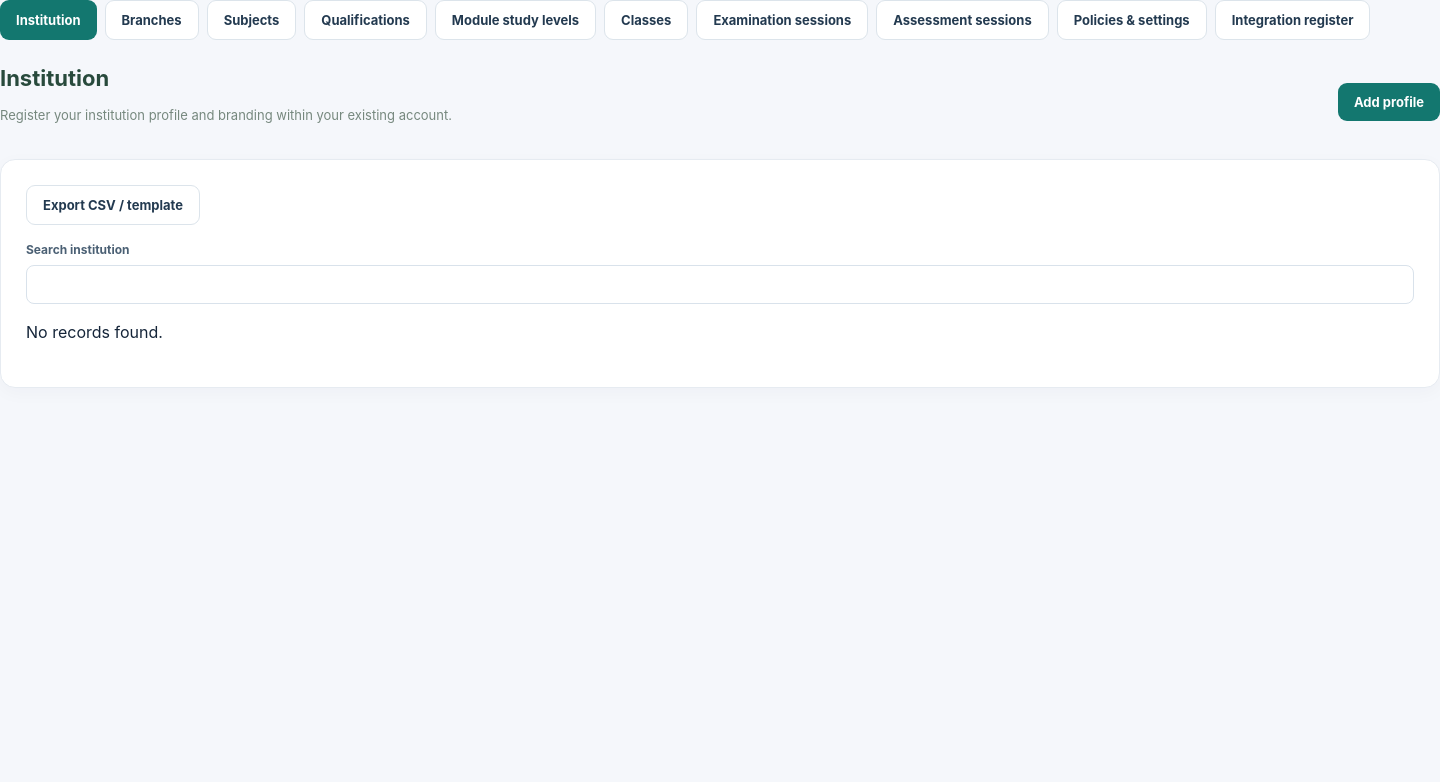
Scenario: Institution management workflows › saves a branch through the backend and refreshes the list
Click the button "Branches" at (152, 20), box [104,0,199,40]
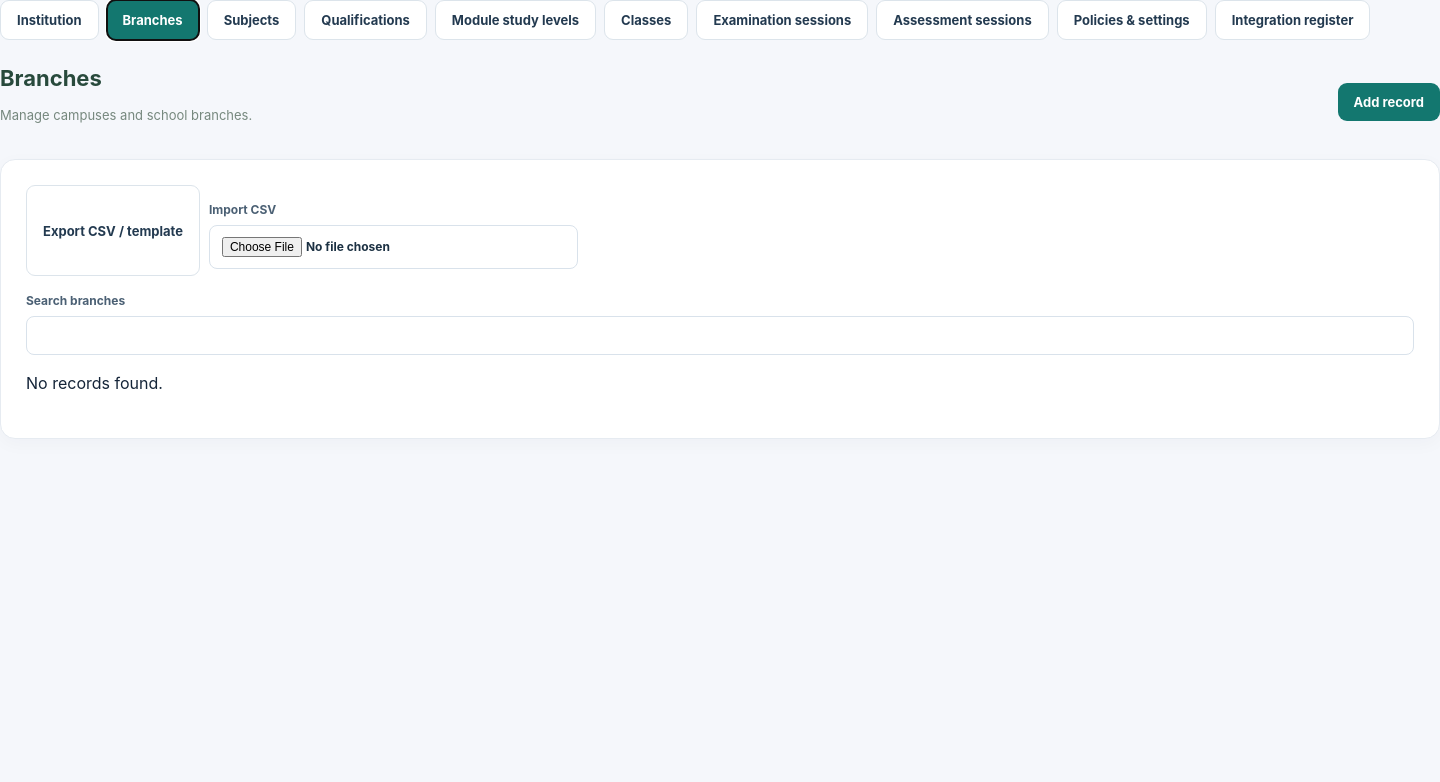
Click the button "Add record" at (1389, 102), box [1338,83,1439,121]
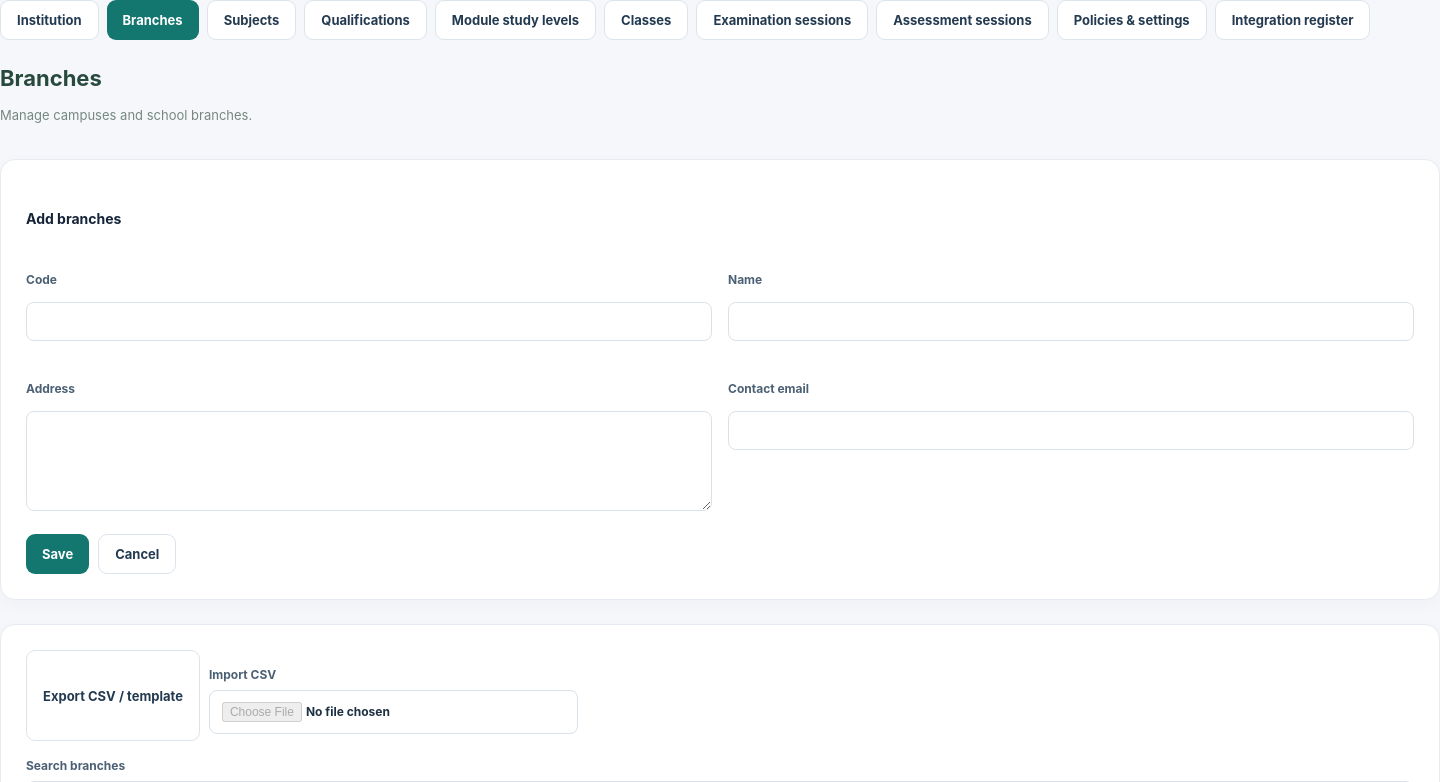
Type "NORTH" into the field labelled "Code" at (369, 322), box [26,302,712,341]
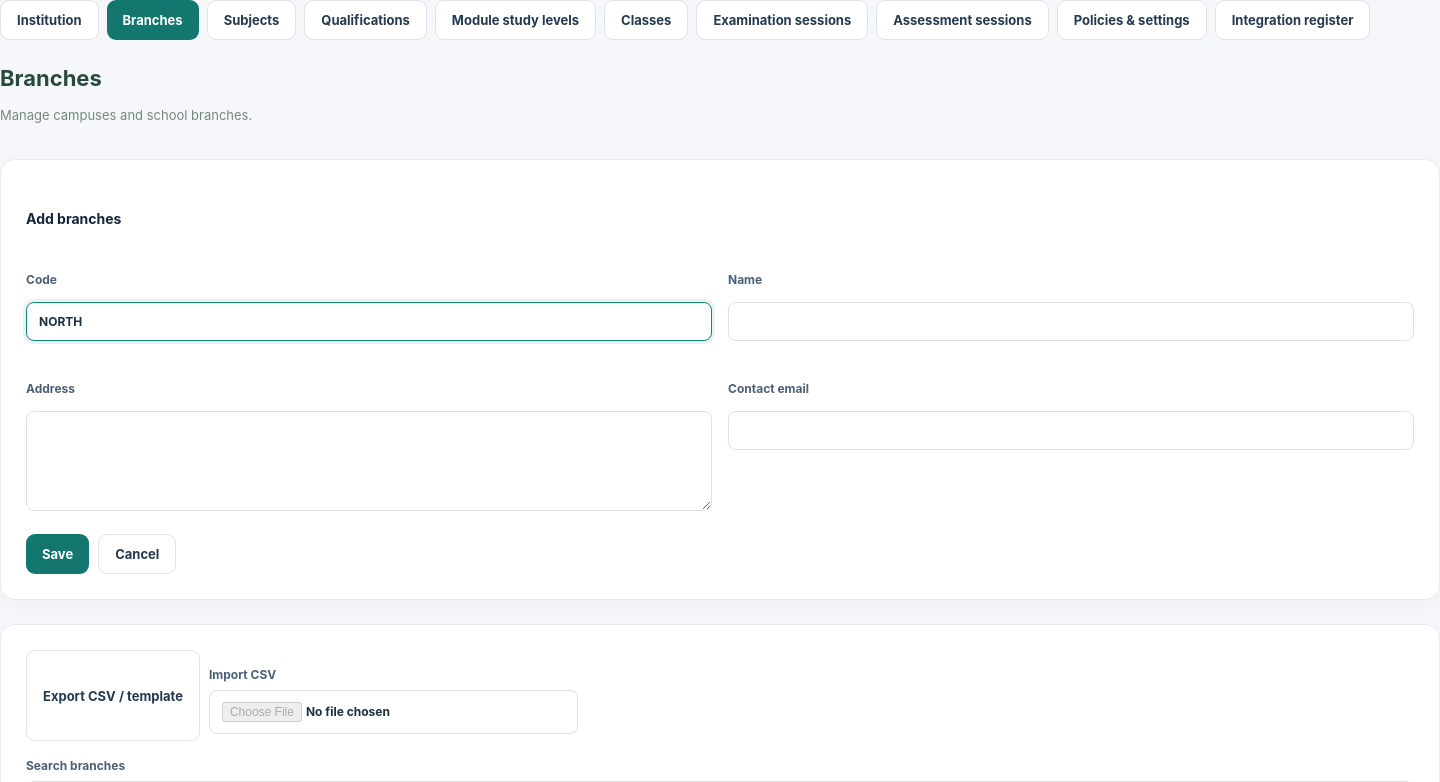
Type "North campus" into the field labelled "Name" at (1071, 322), box [728,302,1414,341]
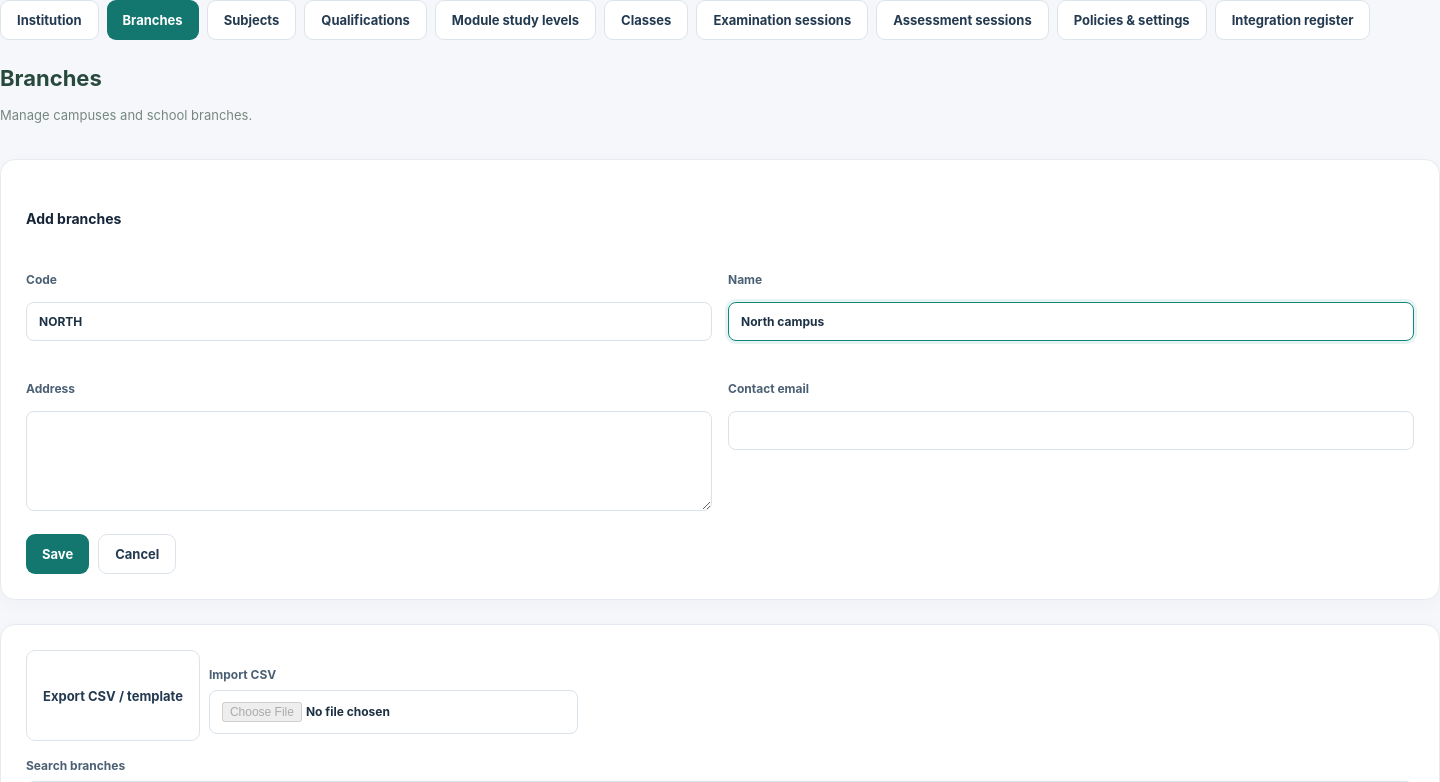
Type "Main road" into the text box labelled "Address" at (369, 461), box [26,411,712,511]
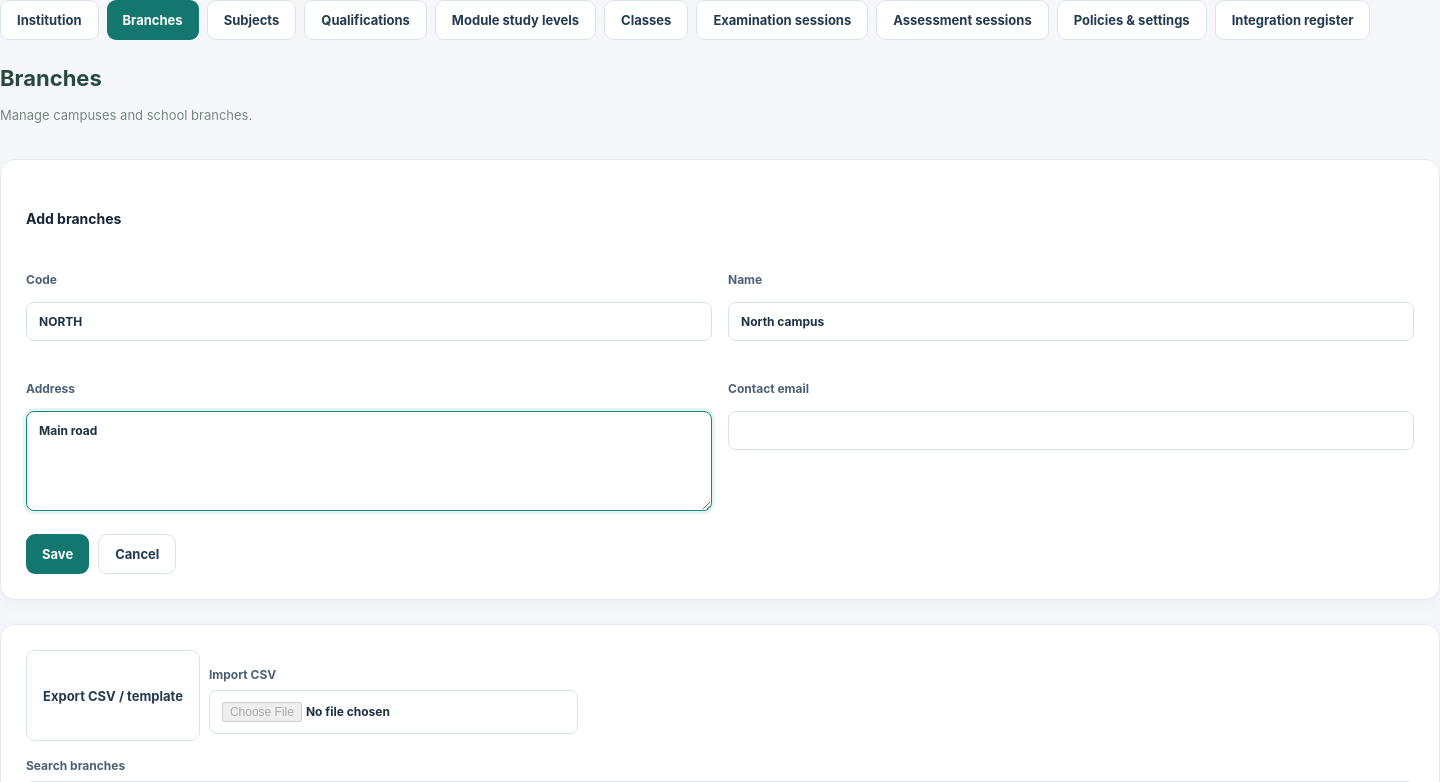
Click the button "Save" at (58, 554), box [26,534,89,574]
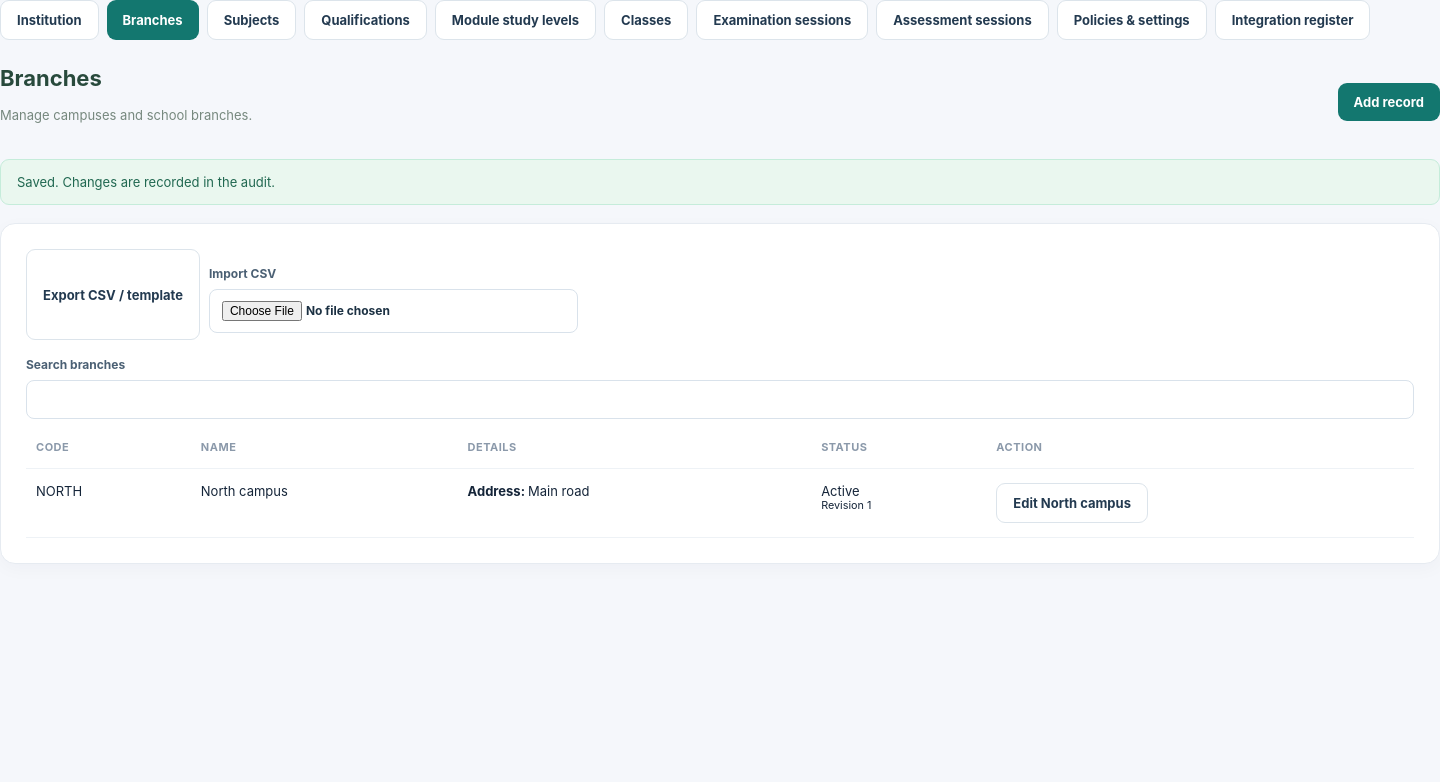
expect the text "North campus" is shown: met, box [191,469,458,538]
